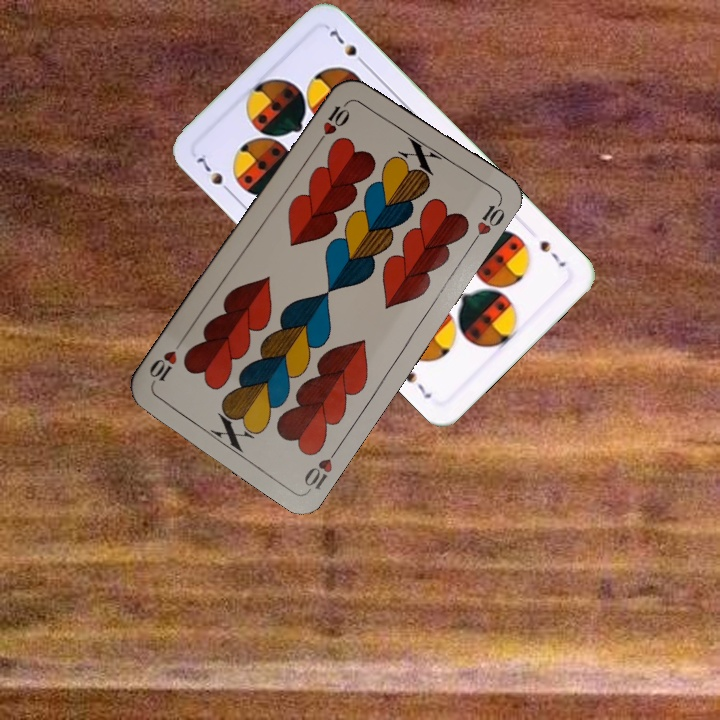H10: (300, 441, 343, 493), (312, 97, 352, 148)
S7: (191, 149, 236, 198), (536, 236, 569, 270)
